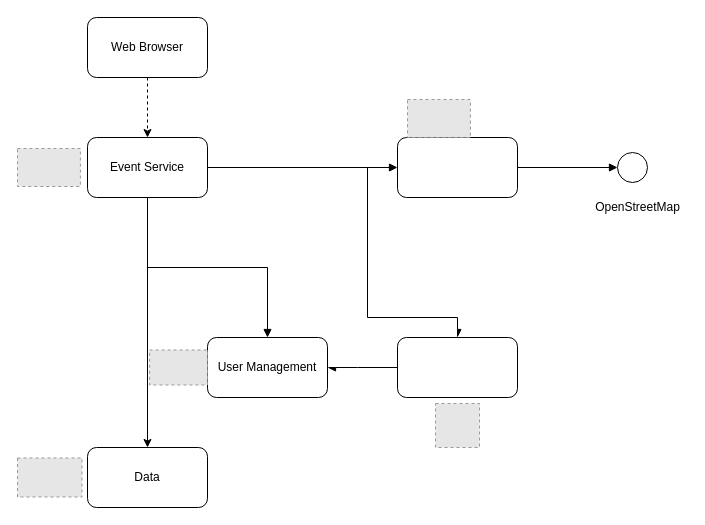
This 705x525 diagram has some shape labels left out. Grey dashed boxes stand in for pictures. Here are the shapes that lost their labels. From the top down, the box of each, then its label:
(396, 136, 518, 198): Location Service
(396, 336, 518, 398): Notification Center
